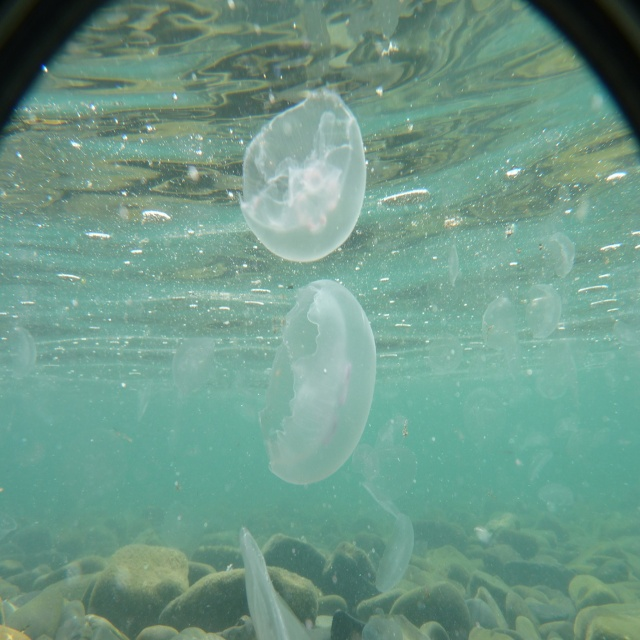Jellyfish: (0, 85, 640, 640)
